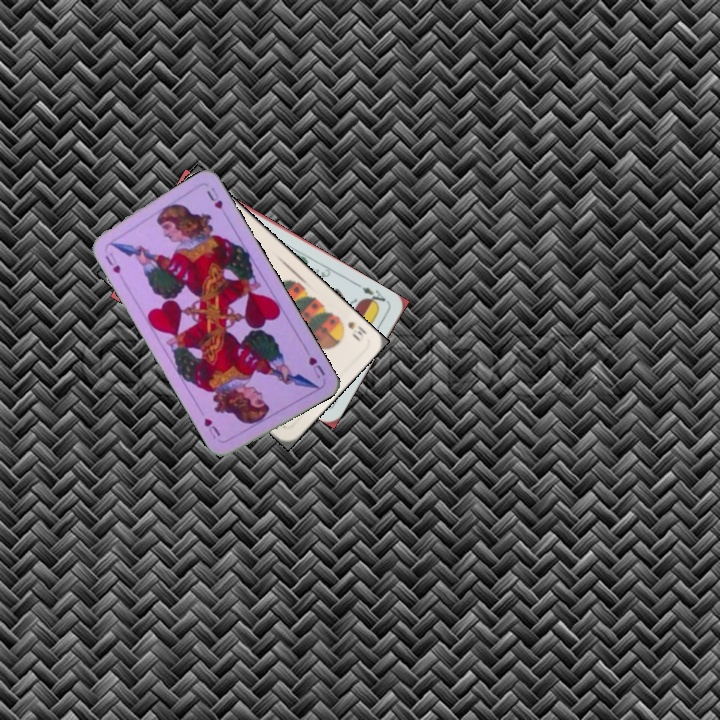EA: (358, 283, 391, 309)
HU: (304, 353, 328, 381), (101, 248, 123, 276)
S10: (334, 313, 370, 344)
